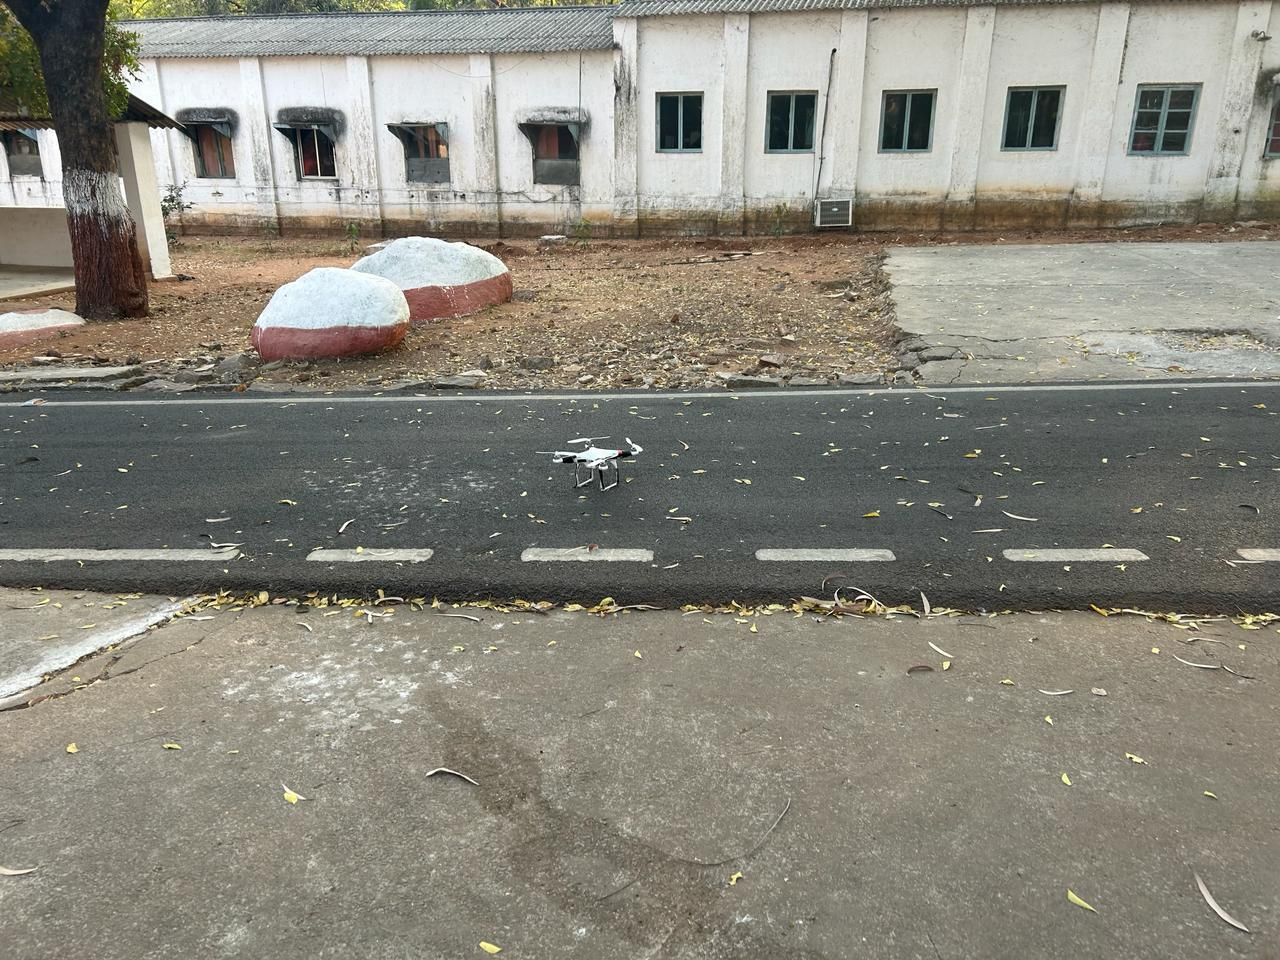drone: (493, 382, 701, 534)
